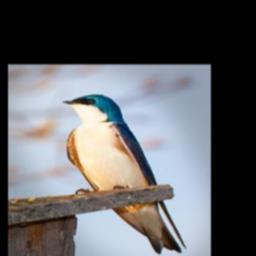Swallow: (61, 93, 188, 254)
